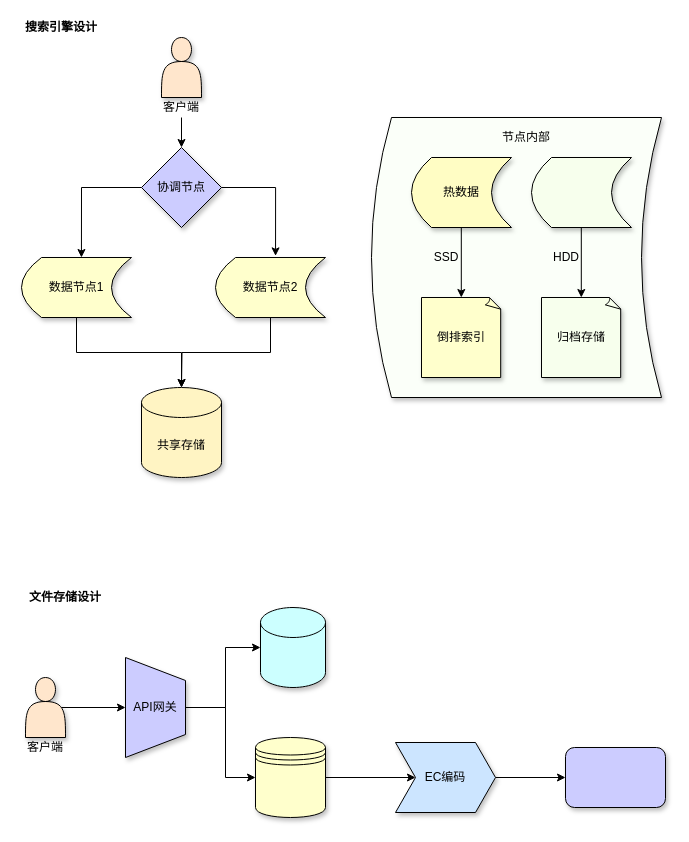
The diagram is 689 pixels wide and 842 high, and some of its shapes have lost their labels. The centre of each missing label's shape, as x and y in pixels:
3副本 2校验块: the point at 616,778
元数据 集群: the point at 294,648
冷数据: the point at 582,193
存储集群: the point at 291,778
